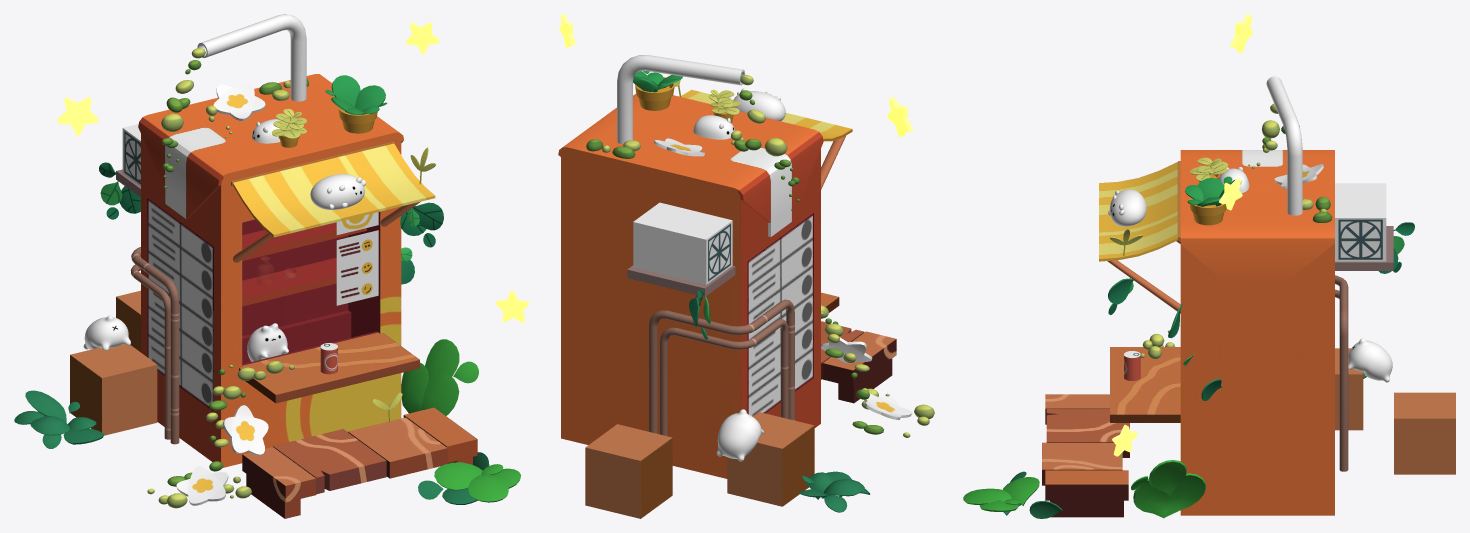
Rendered from stand.glb.
3 views of the same model, side by side, from view 1: azimuth 30°, elevation 25°; view 2: azimuth 150°, elevation 25°; view 3: azimuth 270°, elevation 25° (orthographic). The views are drawn at different scales.
Visible parts, largest first — view 1: G_Puesto_Mtl_Stand_0, G_Plantas_Mtl_Plantas_0, G_Asientos_Mtl_Asientos_0, G_Planos_Mtl_Planos_0, G_Cajas_Mtl_Cajas_0, G_Conejos_Mtl_Animalitos_0, G_Bolitas_Mtl_Bolitas_0, G_Flores_Mtl_Flores_0, G_Macetas_Mtl_Macetas_0, G_Otros_Mtl_Otros_0, G_Estrellas_Mtl_Estrellas_0; view 2: G_Puesto_Mtl_Stand_0, G_Cajas_Mtl_Cajas_0, G_Planos_Mtl_Planos_0, G_Otros_Mtl_Otros_0, G_Bolitas_Mtl_Bolitas_0, G_Conejos_Mtl_Animalitos_0, G_Asientos_Mtl_Asientos_0, G_Plantas_Mtl_Plantas_0, G_Macetas_Mtl_Macetas_0, G_Flores_Mtl_Flores_0, G_Estrellas_Mtl_Estrellas_0; view 3: G_Puesto_Mtl_Stand_0, G_Asientos_Mtl_Asientos_0, G_Plantas_Mtl_Plantas_0, G_Cajas_Mtl_Cajas_0, G_Otros_Mtl_Otros_0, G_Conejos_Mtl_Animalitos_0, G_Macetas_Mtl_Macetas_0, G_Bolitas_Mtl_Bolitas_0, G_Estrellas_Mtl_Estrellas_0.
Boxes of the visible parts, x1,y1,x2,y2 form: G_Puesto_Mtl_Stand_0: (116, 14, 435, 467); G_Plantas_Mtl_Plantas_0: (14, 147, 520, 504); G_Asientos_Mtl_Asientos_0: (242, 407, 477, 518); G_Planos_Mtl_Planos_0: (147, 198, 378, 411); G_Cajas_Mtl_Cajas_0: (70, 290, 157, 435); G_Conejos_Mtl_Animalitos_0: (83, 119, 365, 361); G_Bolitas_Mtl_Bolitas_0: (147, 48, 308, 508); G_Flores_Mtl_Flores_0: (176, 83, 268, 505); G_Macetas_Mtl_Macetas_0: (272, 75, 387, 147); G_Otros_Mtl_Otros_0: (122, 124, 337, 374); G_Estrellas_Mtl_Estrellas_0: (57, 22, 529, 322); G_Puesto_Mtl_Stand_0: (558, 55, 852, 478); G_Cajas_Mtl_Cajas_0: (585, 412, 814, 518); G_Planos_Mtl_Planos_0: (747, 213, 813, 416); G_Otros_Mtl_Otros_0: (633, 202, 732, 284); G_Bolitas_Mtl_Bolitas_0: (586, 75, 934, 437); G_Conejos_Mtl_Animalitos_0: (693, 88, 785, 461); G_Asientos_Mtl_Asientos_0: (821, 321, 896, 403); G_Plantas_Mtl_Plantas_0: (674, 80, 869, 512); G_Macetas_Mtl_Macetas_0: (633, 71, 740, 122); G_Flores_Mtl_Flores_0: (654, 138, 912, 419); G_Estrellas_Mtl_Estrellas_0: (559, 14, 913, 137); G_Puesto_Mtl_Stand_0: (1099, 76, 1393, 515); G_Asientos_Mtl_Asientos_0: (1042, 394, 1129, 517); G_Plantas_Mtl_Plantas_0: (963, 222, 1414, 518); G_Cajas_Mtl_Cajas_0: (1335, 348, 1455, 474); G_Otros_Mtl_Otros_0: (1124, 183, 1386, 380); G_Conejos_Mtl_Animalitos_0: (1108, 167, 1392, 382); G_Macetas_Mtl_Macetas_0: (1185, 157, 1241, 225); G_Bolitas_Mtl_Bolitas_0: (1140, 103, 1332, 358); G_Estrellas_Mtl_Estrellas_0: (1112, 14, 1252, 456).
Size of the model in its own units: 3.54 by 3.22 by 3.89.
Materials: 11 (11 with a texture image).
